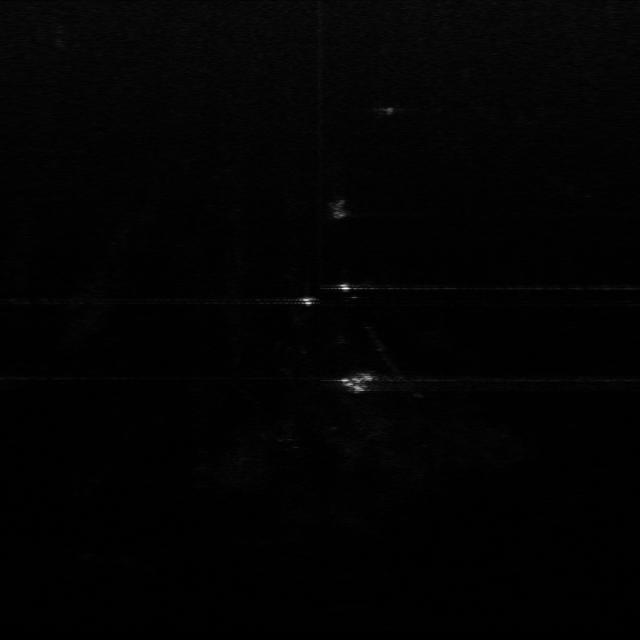rov: (336, 370, 382, 394)
